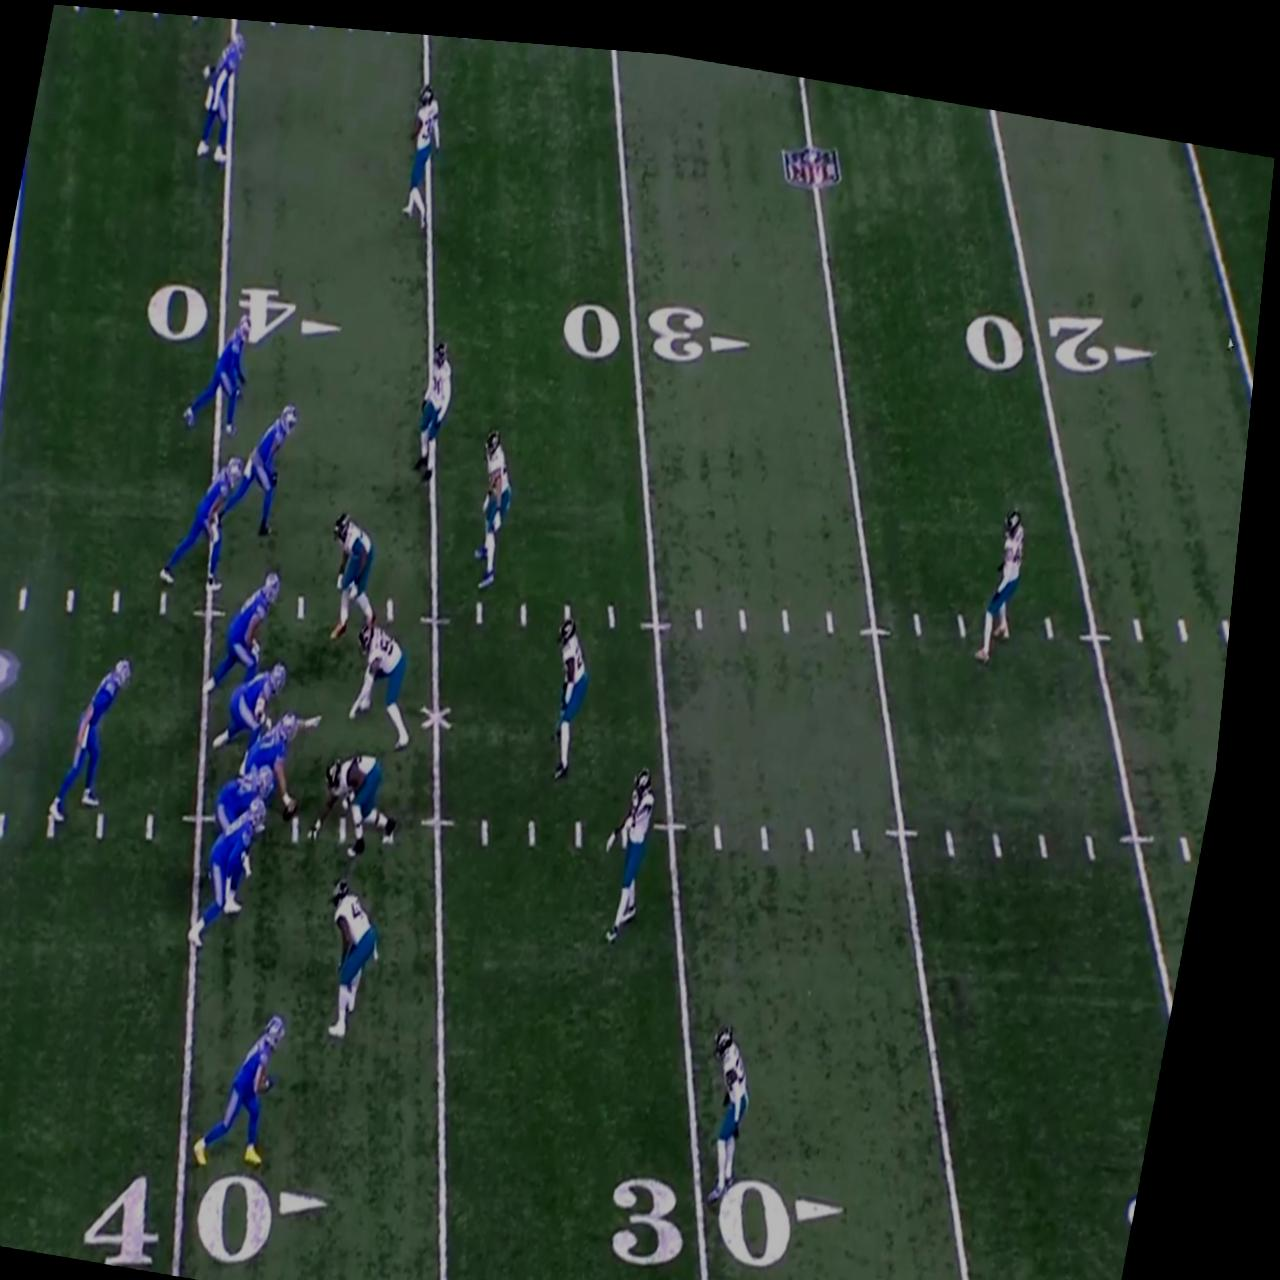20R: (962, 277, 1170, 377)
30R: (624, 1142, 873, 1280), (561, 271, 764, 375)
40R: (101, 1143, 359, 1280), (148, 264, 358, 363)
